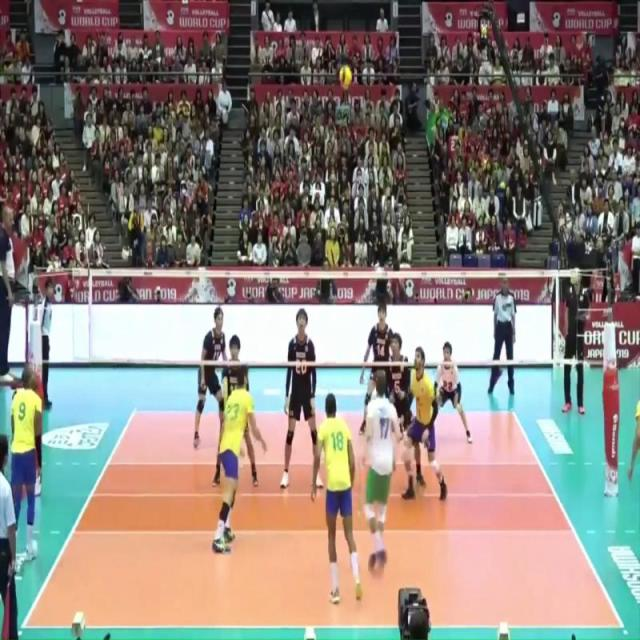volleyball: (337, 63, 356, 94)
